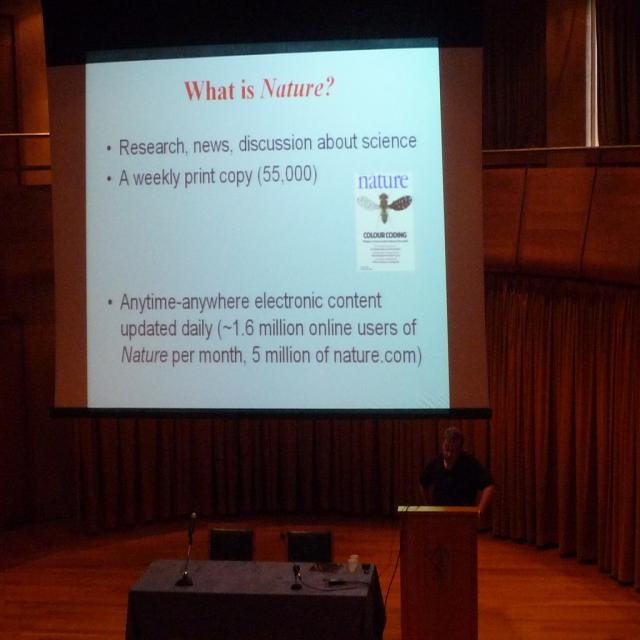desk: (130, 560, 376, 640)
person: (418, 427, 496, 508)
tv: (71, 31, 471, 426)
